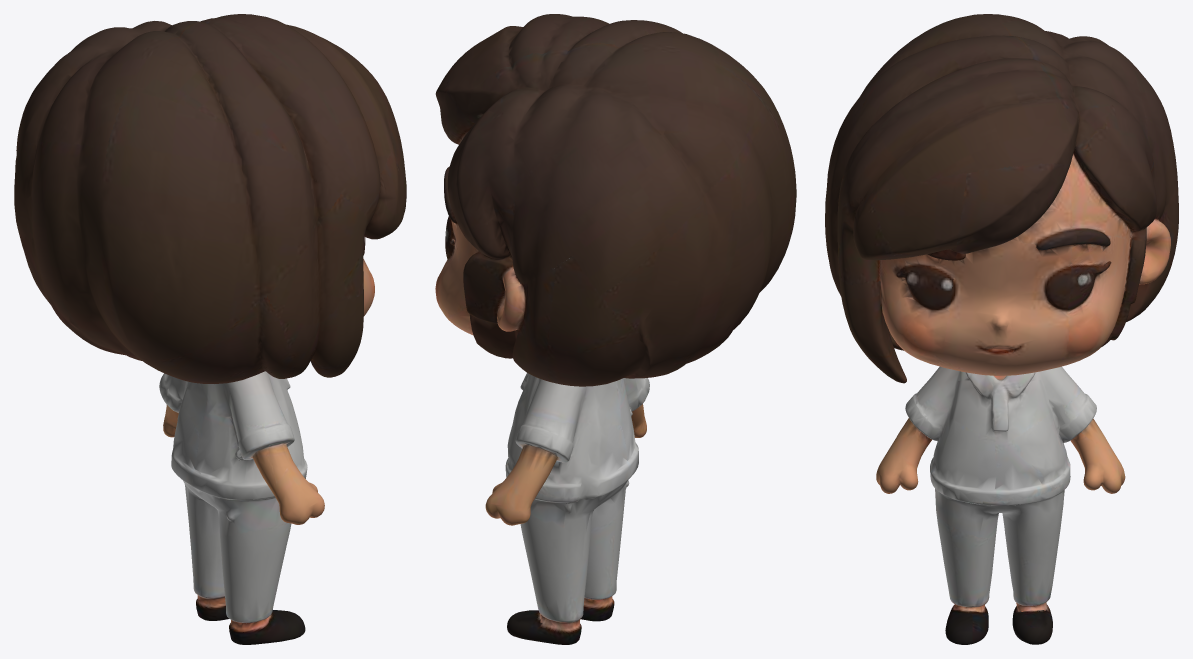
Rendered from hair_f3-web.glb.
3 renders of one model, left to right at view 1: azimuth 30°, elevation 25°; view 2: azimuth 150°, elevation 25°; view 3: azimuth 270°, elevation 25°, orthographic. The views are drawn at different scales.
Visible parts, largest first — view 1: tripo_node_9b3ff64f-ed2f-44ed-abd5-b7a5c4ed6aae; view 2: tripo_node_9b3ff64f-ed2f-44ed-abd5-b7a5c4ed6aae; view 3: tripo_node_9b3ff64f-ed2f-44ed-abd5-b7a5c4ed6aae.
Part boxes in pixels (x1=…): tripo_node_9b3ff64f-ed2f-44ed-abd5-b7a5c4ed6aae: x1=14, y1=14, x2=406, y2=644; tripo_node_9b3ff64f-ed2f-44ed-abd5-b7a5c4ed6aae: x1=435, y1=14, x2=796, y2=644; tripo_node_9b3ff64f-ed2f-44ed-abd5-b7a5c4ed6aae: x1=825, y1=14, x2=1178, y2=644.
Size of the model in its own units: 0.5677 by 0.9998 by 0.5628.
1 material, 1 textured.
